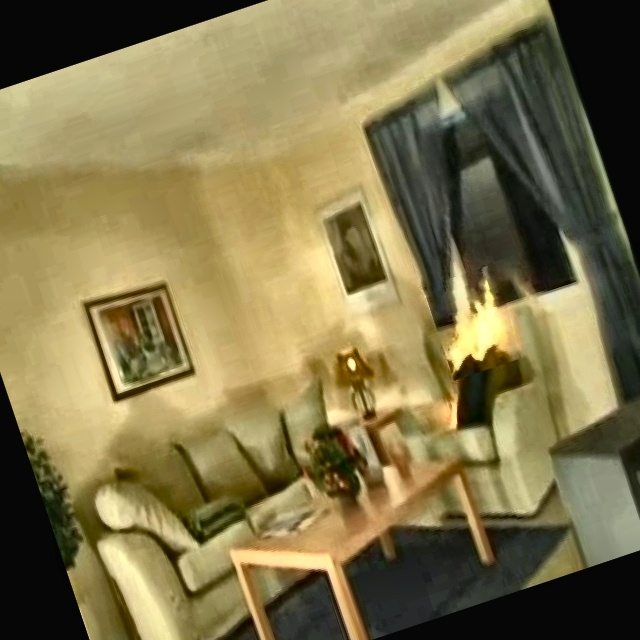fire: (429, 268, 535, 369)
